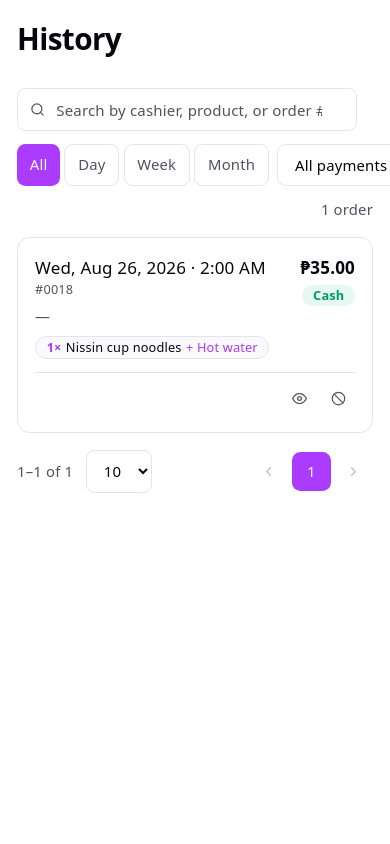
Test: order history with an add-on fee › itemises the fee so the breakdown adds up to the total
The row renders for both the card and table layouts, so take the first.
Click the button named "View receipt".
click(300, 398)  # box [283, 381, 317, 415]
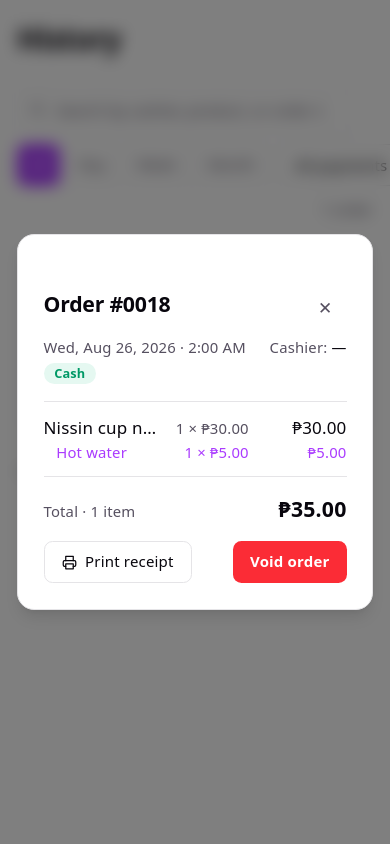
Expected: the dialog shows "Hot water", [56, 442, 127, 462]
Expected: the dialog shows "₱5.00", [17, 234, 373, 610]
Expected: the dialog shows "₱35.00", [17, 234, 373, 610]
